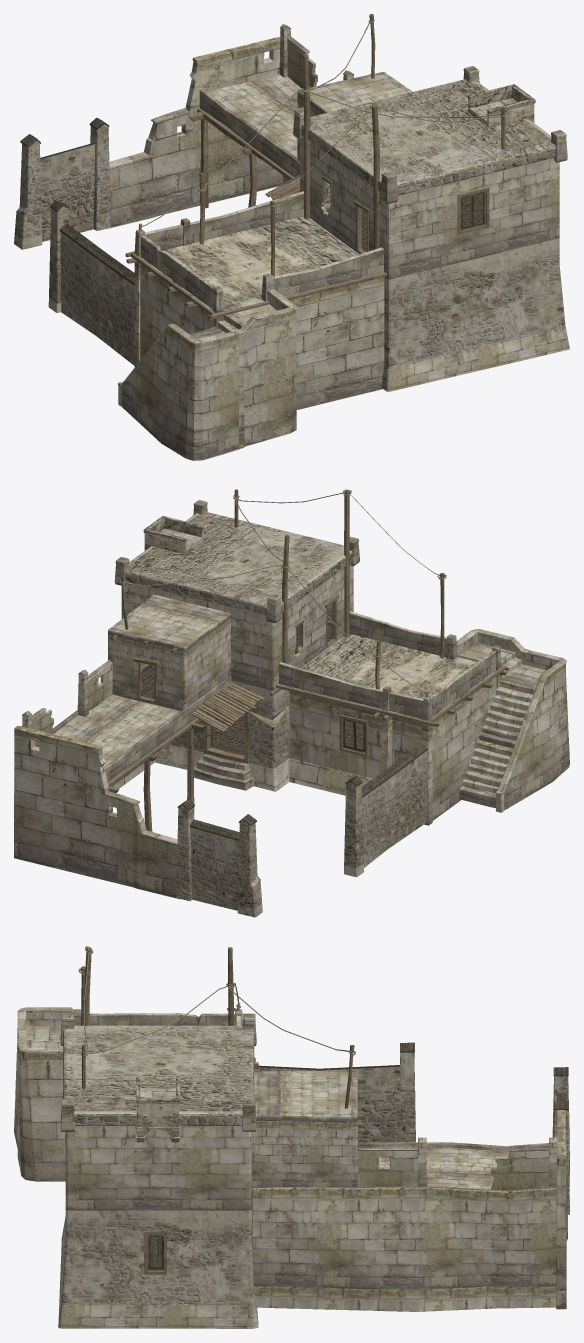
The model's file is TW2_5_HOUSE_02_27-transformed.glb.
3 views of the same model, one above another, from view 1: azimuth 30°, elevation 25°; view 2: azimuth 150°, elevation 25°; view 3: azimuth 270°, elevation 25° (orthographic). The views are drawn at different scales.
Parts seen in each view (by area): view 1: default; view 2: default; view 3: default.
Boxes of the visible parts, left/top/right/bottom form: default: left=14, top=14, right=569, bottom=460; default: left=14, top=489, right=569, bottom=917; default: left=14, top=946, right=569, bottom=1328.
Size of the model in its own units: 20.81 by 13.68 by 23.67.
6 materials, 6 textured.
